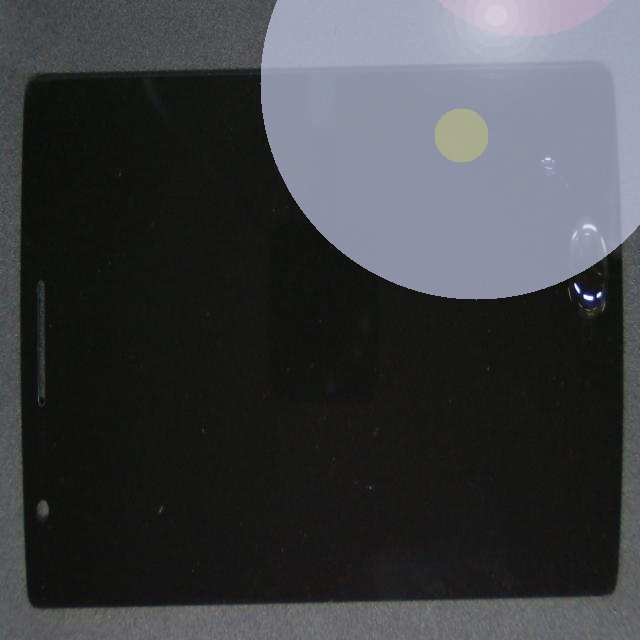oil: (316, 148, 640, 377), (277, 59, 640, 262)
